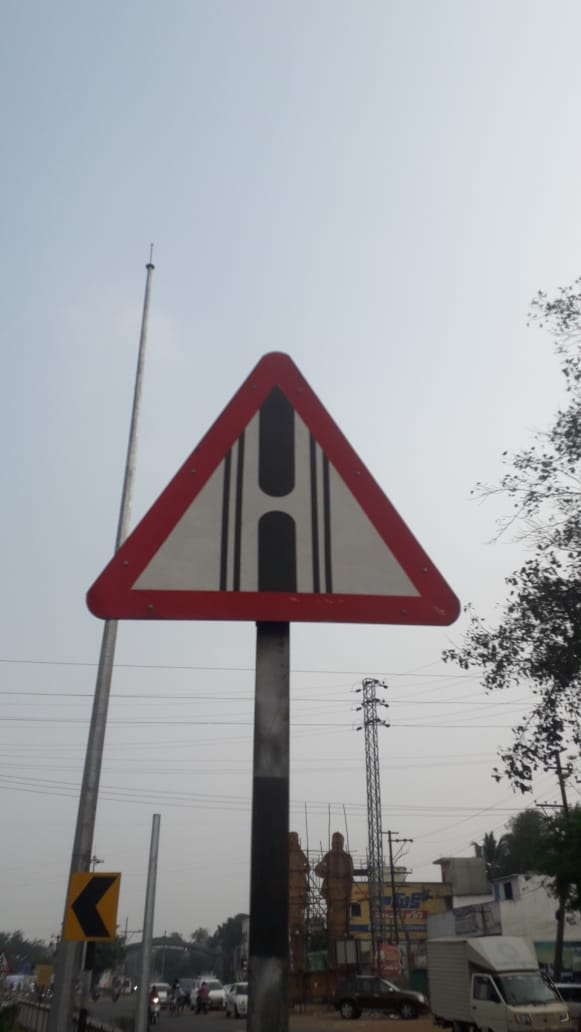highway go straight: (65, 336, 488, 642)
